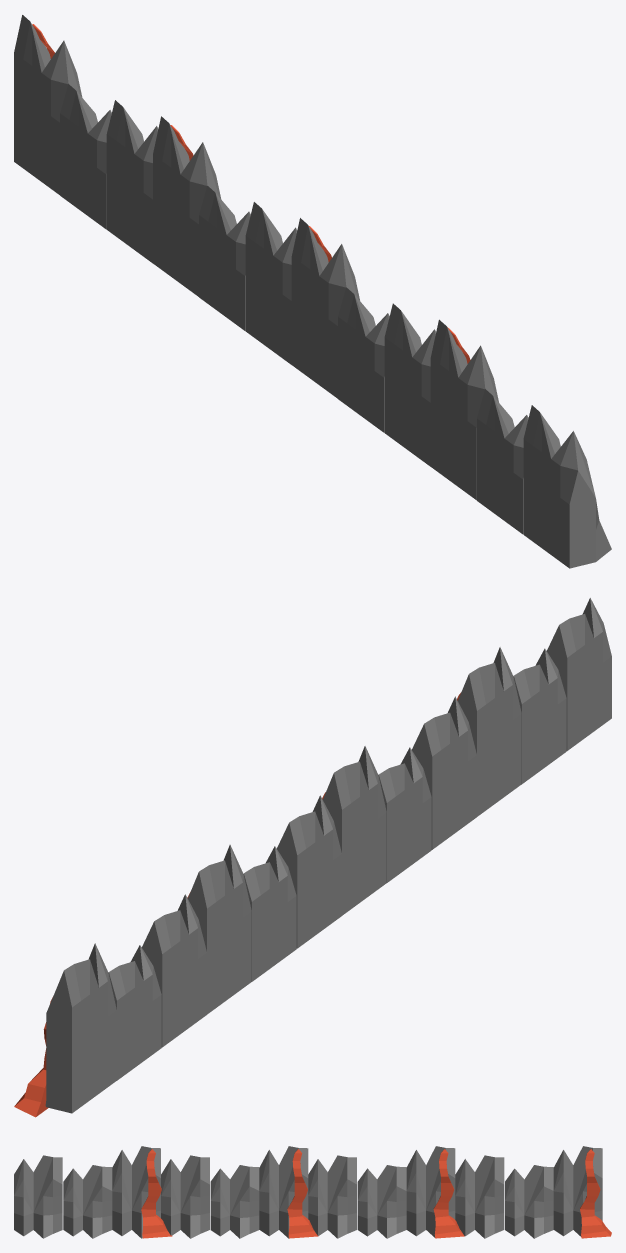
Rendered from скалы 1.fbx.
3 views of the same model, one above another, from view 1: azimuth 30°, elevation 25°; view 2: azimuth 150°, elevation 25°; view 3: azimuth 270°, elevation 25° (orthographic). The views are drawn at different scales.
Parts seen in each view (by area): view 1: Cube.002; view 2: Cube.002; view 3: Cube.002.
Part boxes in pixels (bbox=[...]): Cube.002: bbox=[14, 15, 611, 568]; Cube.002: bbox=[14, 598, 611, 1117]; Cube.002: bbox=[14, 1146, 611, 1238].
Bounding box in the file's own units: 580 × 1362 × 9295.
